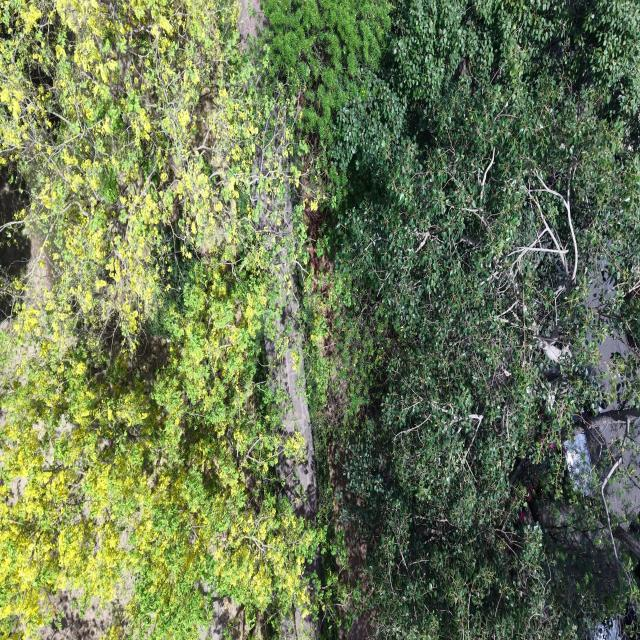DRY_AREA: (252, 112, 318, 522), (252, 114, 317, 522), (254, 115, 318, 522), (238, 0, 265, 47)
VEGETATION_TREE: (0, 0, 639, 639), (308, 2, 639, 637), (0, 0, 318, 637)
